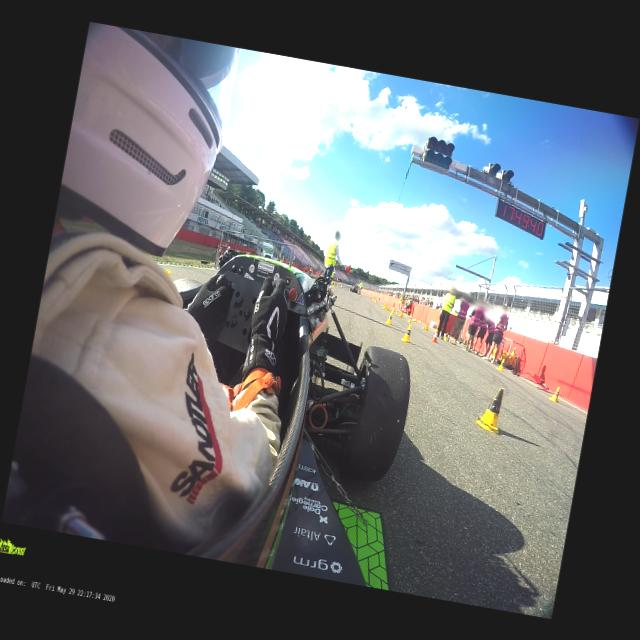orange_cone: (432, 329, 438, 342)
yellow_cone: (476, 384, 508, 433), (402, 324, 412, 342), (550, 386, 560, 402), (497, 357, 504, 370), (386, 311, 392, 324), (510, 346, 516, 354), (422, 324, 428, 330), (408, 315, 412, 322), (398, 312, 402, 318), (396, 308, 399, 314), (412, 318, 416, 322), (391, 307, 394, 312), (382, 301, 384, 306), (406, 312, 408, 316), (374, 298, 376, 302), (372, 297, 374, 301), (371, 296, 373, 300), (364, 293, 365, 296), (366, 294, 366, 296)
